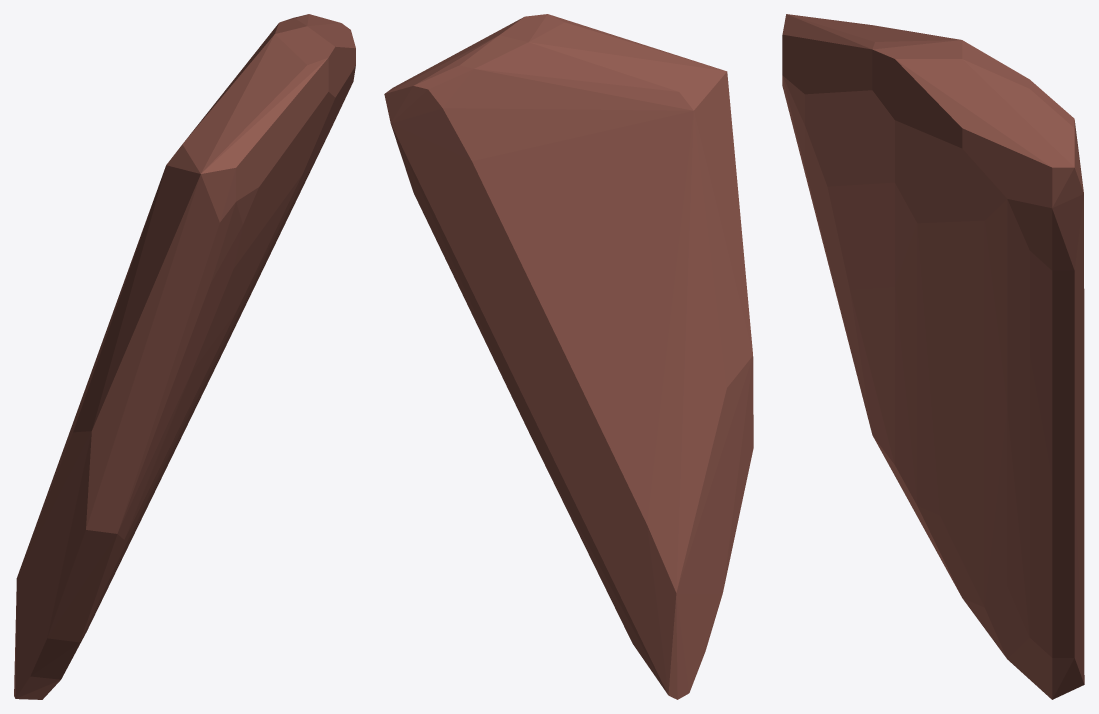
File: mouth_cup015.obj
3 views of the same model, side by side, from view 1: azimuth 30°, elevation 25°; view 2: azimuth 150°, elevation 25°; view 3: azimuth 270°, elevation 25° (orthographic). The views are drawn at different scales.
Visible parts, largest first — view 1: mouth_cup015; view 2: mouth_cup015; view 3: mouth_cup015.
Boxes of the visible parts, x1,y1,x2,y2 form: mouth_cup015: [14, 14, 355, 699]; mouth_cup015: [384, 14, 753, 699]; mouth_cup015: [782, 14, 1084, 699].
Bounding box in the file's own units: 0.1237 × 0.2276 × 0.0805.
